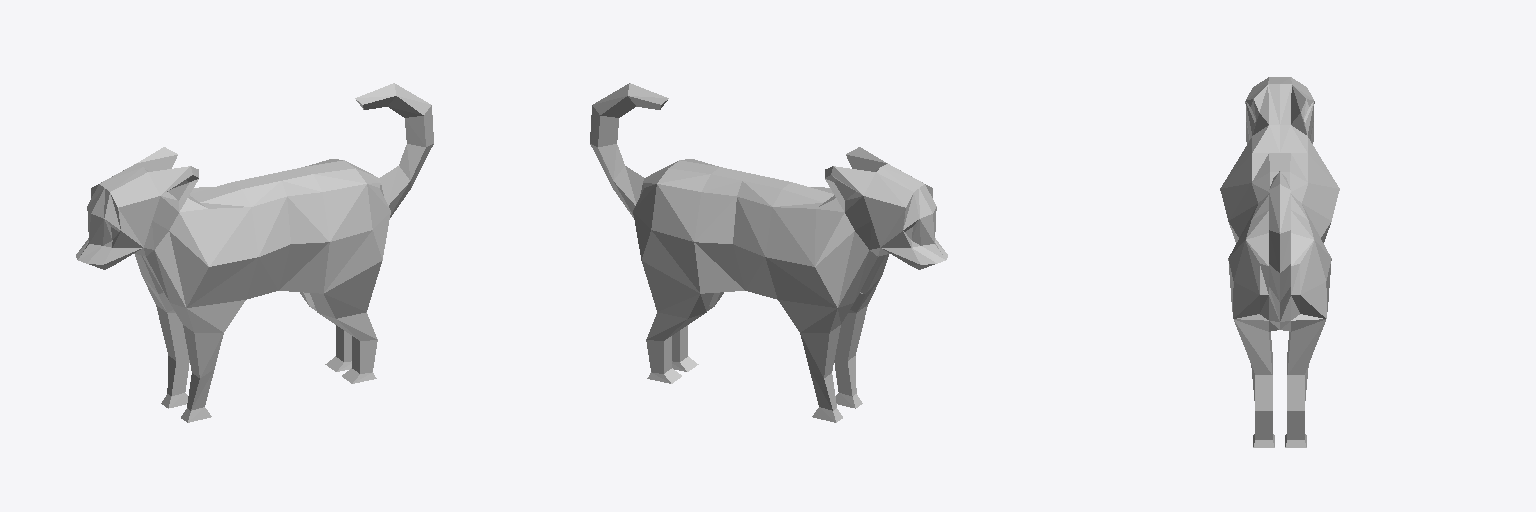
Rendered from dog_friend.obj.
3 renders of one model, left to right at view 1: azimuth 30°, elevation 25°; view 2: azimuth 150°, elevation 25°; view 3: azimuth 270°, elevation 25°, orthographic.
Bounding box in the file's own units: 22.13 × 16.53 × 6.44.